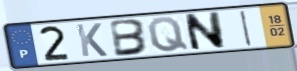2: (39, 25, 71, 62)
B: (109, 18, 151, 59)
I: (239, 9, 254, 48)
K: (74, 22, 109, 58)
N: (182, 10, 227, 53)
Q: (146, 16, 191, 54)
